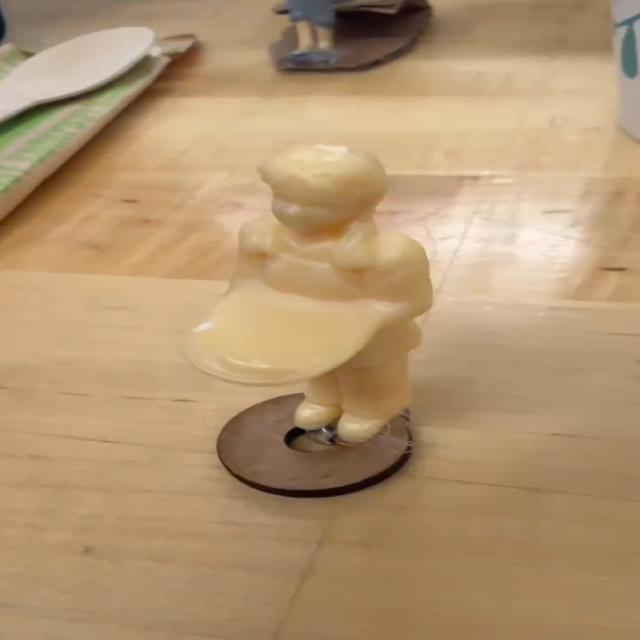Unauthorized: (196, 145, 444, 447)
